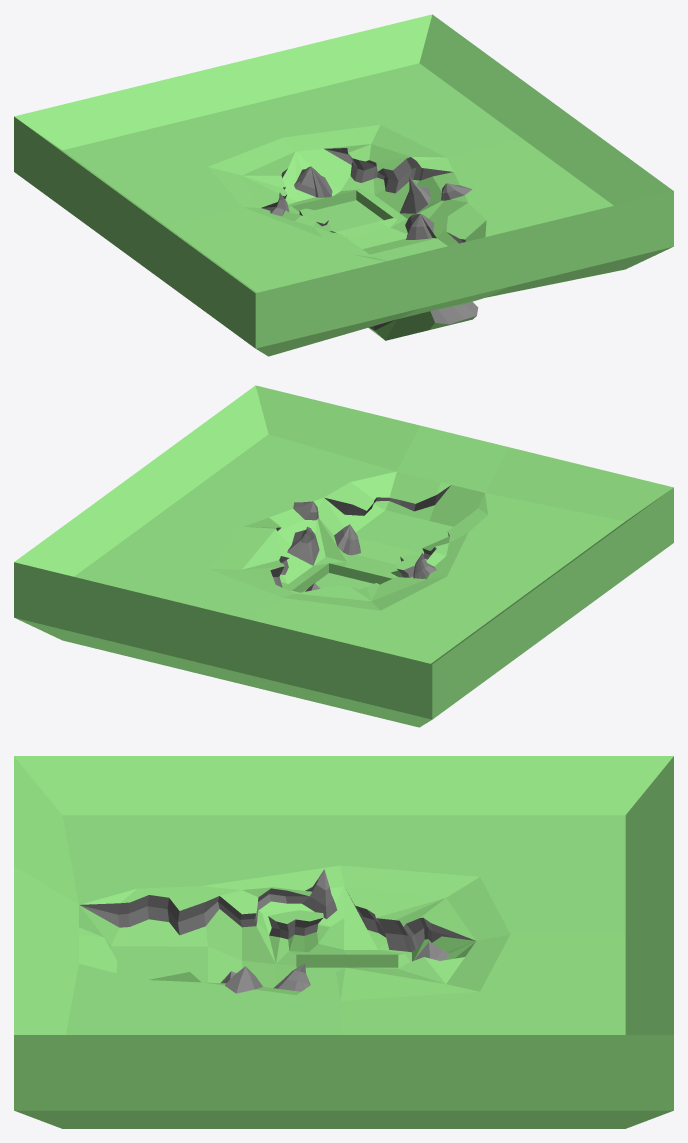
Rendered from kanion.fbx.
3 views of the same model, one above another, from view 1: azimuth 30°, elevation 25°; view 2: azimuth 150°, elevation 25°; view 3: azimuth 270°, elevation 25° (orthographic). The views are drawn at different scales.
Parts seen in each view (by area): view 1: Cube; view 2: Cube; view 3: Cube.
Boxes of the visible parts, box(x1,y1,x2,y2) form: Cube: box(14, 14, 673, 356); Cube: box(14, 385, 673, 727); Cube: box(14, 756, 673, 1128).
Bounding box in the file's own units: 1940 × 550 × 1940.
